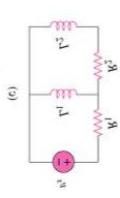inductor: (46, 81, 82, 102)
